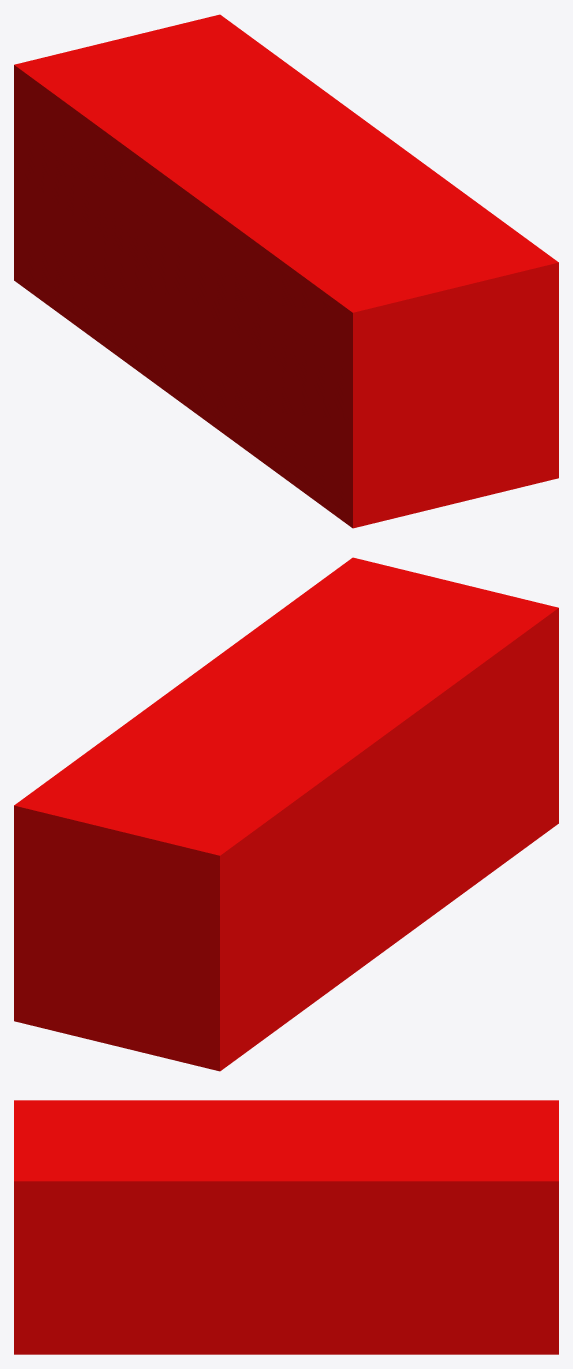
The model's file is pendulum_col.dae.
3 renders of one model, top to bottom at view 1: azimuth 30°, elevation 25°; view 2: azimuth 150°, elevation 25°; view 3: azimuth 270°, elevation 25°, orthographic. The views are drawn at different scales.
Visible parts, largest first — view 1: node0; view 2: node0; view 3: node0.
Boxes of the visible parts, x1,y1,x2,y2 form: node0: (14,14,558,528); node0: (14,557,558,1071); node0: (14,1100,558,1354).
Bounding box in the file's own units: 0.2 × 0.2 × 0.5695.
